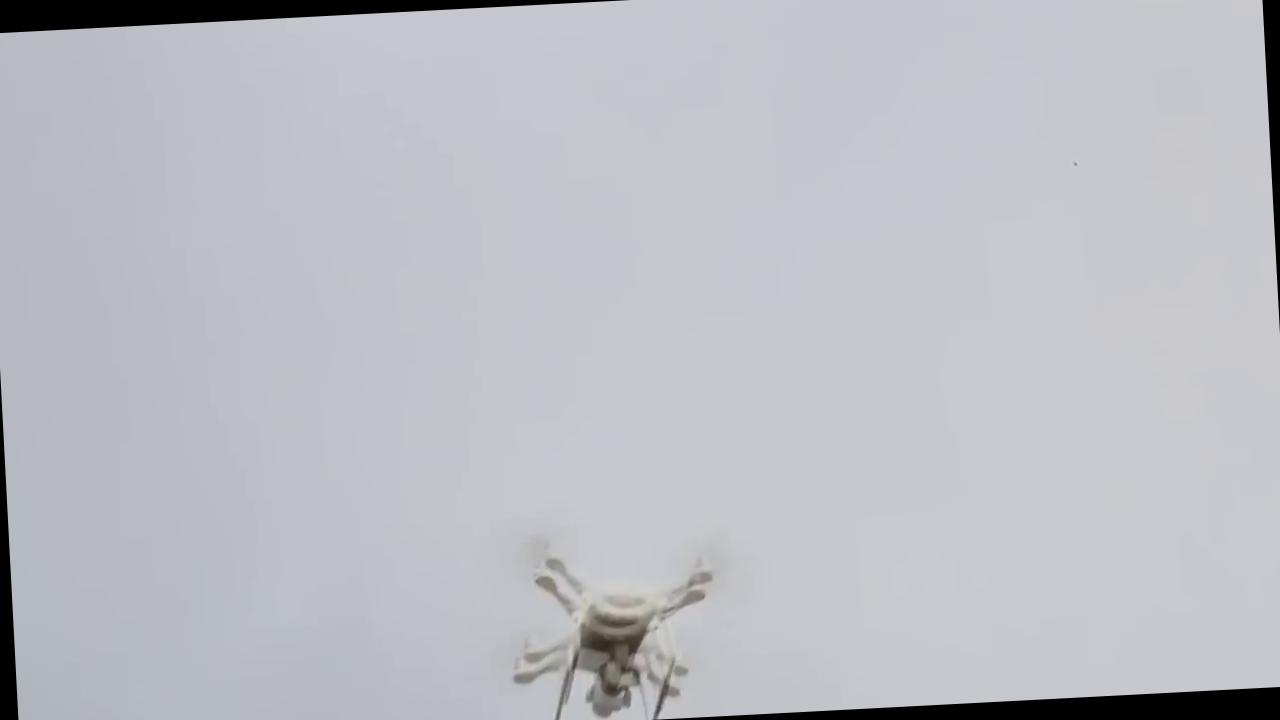drone: (483, 536, 738, 716)
